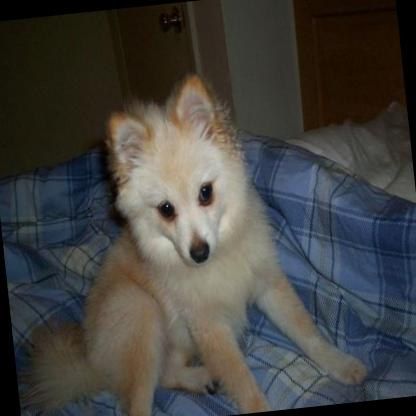Pomeranian: (0, 54, 369, 416)
